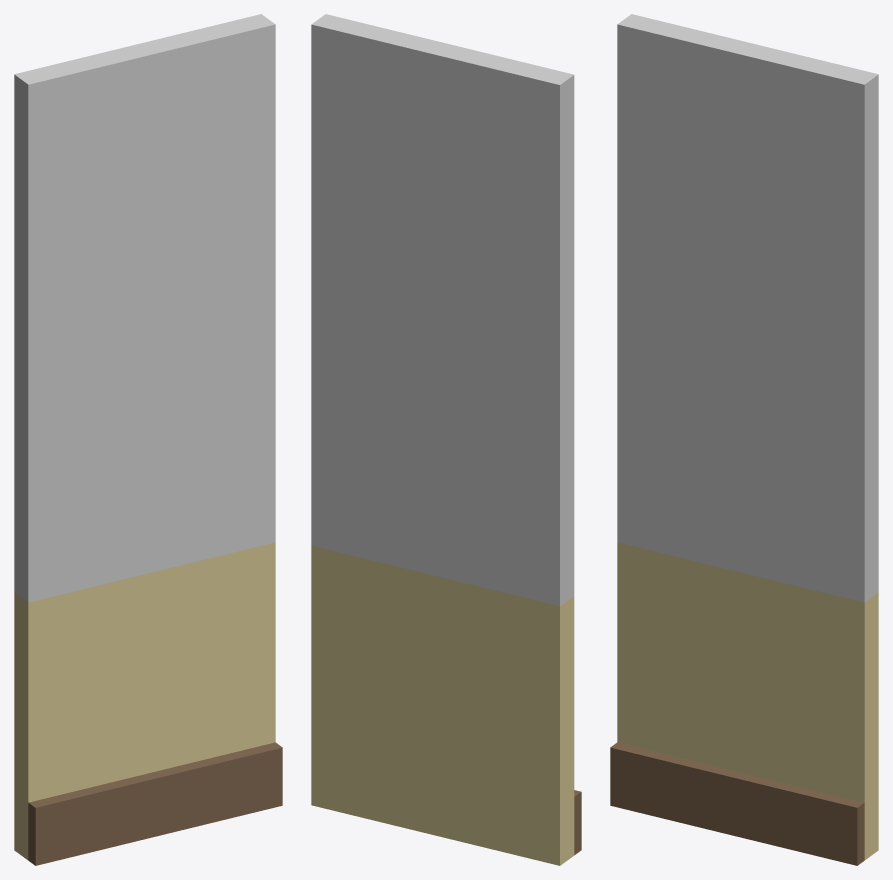
Rendered from Mesh_WallBaseboard2Colors_G1.fbx.
The picture shows the model from 3 angles, left to right: view 1: azimuth 30°, elevation 25°; view 2: azimuth 150°, elevation 25°; view 3: azimuth 330°, elevation 25°; orthographic projection.
Visible parts, largest first — view 1: Mesh_WallBaseboard2Colors_G1; view 2: Mesh_WallBaseboard2Colors_G1; view 3: Mesh_WallBaseboard2Colors_G1.
Boxes of the visible parts, <box> form: Mesh_WallBaseboard2Colors_G1: <box>14,14,282,865</box>; Mesh_WallBaseboard2Colors_G1: <box>311,14,581,865</box>; Mesh_WallBaseboard2Colors_G1: <box>610,14,878,865</box>.
Size of the model in its own units: 1 by 3 by 0.15.
